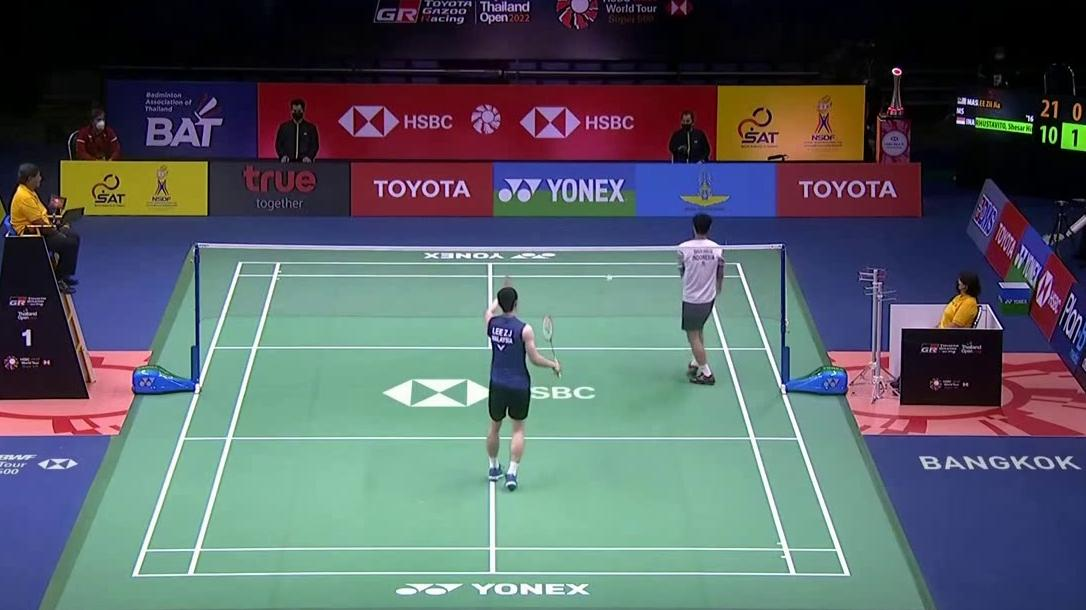racket: (543, 315, 560, 378)
shuttle: (605, 273, 612, 282)
